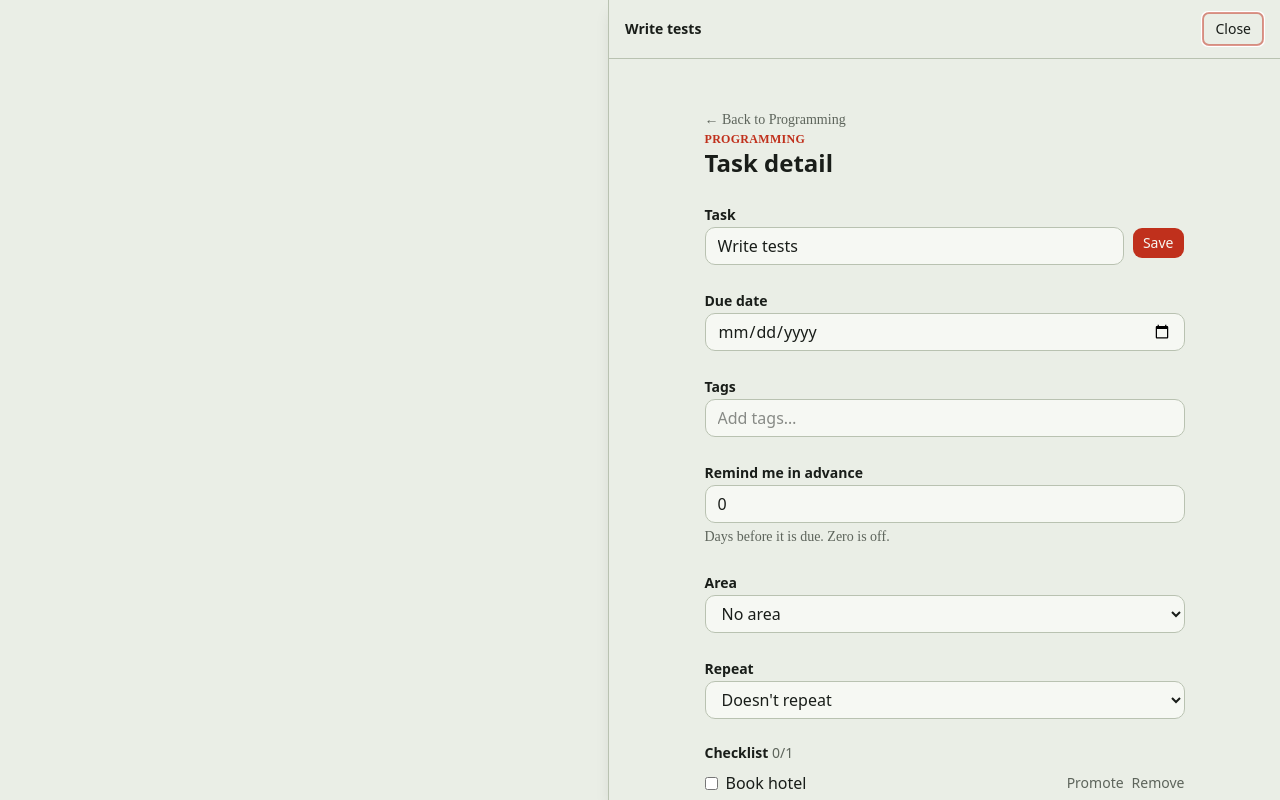
TaskDetailRoute › removes a checklist step
The image size is (1280, 800).
Expected: the text "Book hotel" is shown, [726,772,806,794]
Click the button with aria-label "Remove Book hotel": (1158, 783) [1132,773,1184,793]
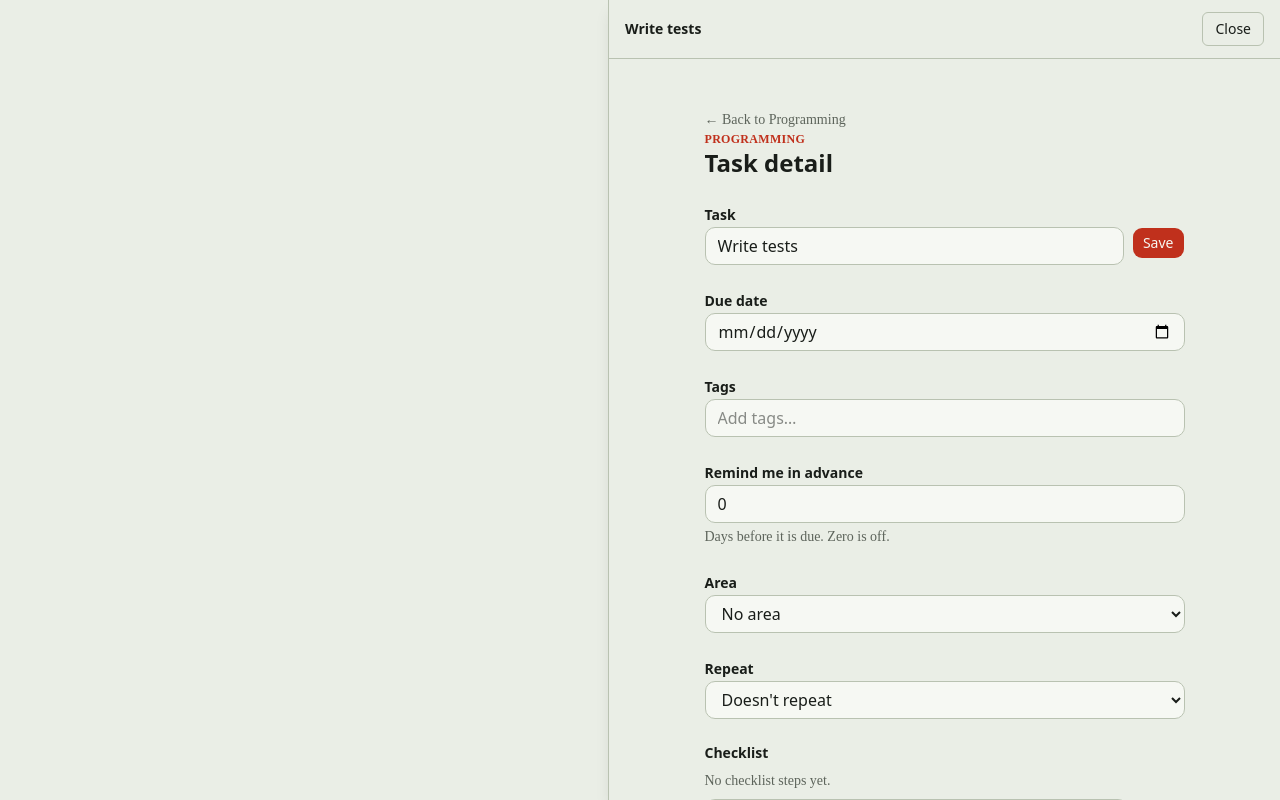
Now the text "Book hotel" is gone
